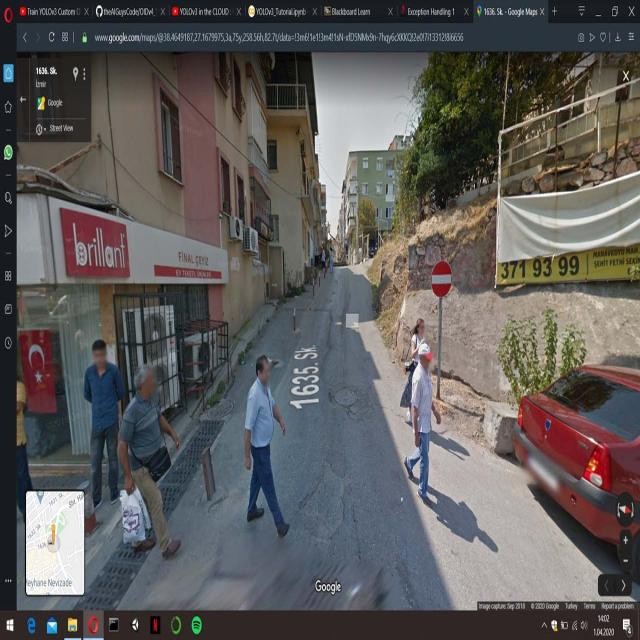girisyok: (431, 261, 451, 297)
